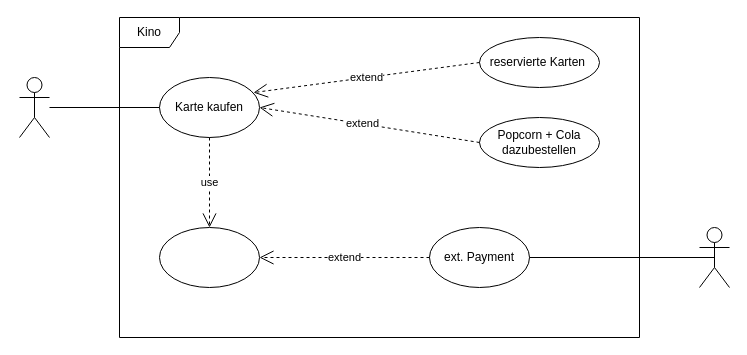
This 747x355 diagram has some shape labels left out. Here are the shapes that lost their labels. From the top down, the centre of each, then its label:
At pixel 34 107: "Kunde".
At pixel 209 257: "bezahlen".
At pixel 714 257: "Stripe".
